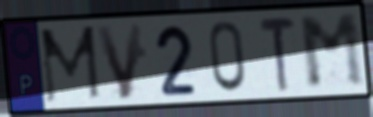0: (208, 19, 248, 94)
2: (151, 19, 203, 101)
M: (296, 11, 369, 92), (38, 23, 104, 107)
T: (256, 16, 299, 94)
V: (93, 20, 146, 103)
